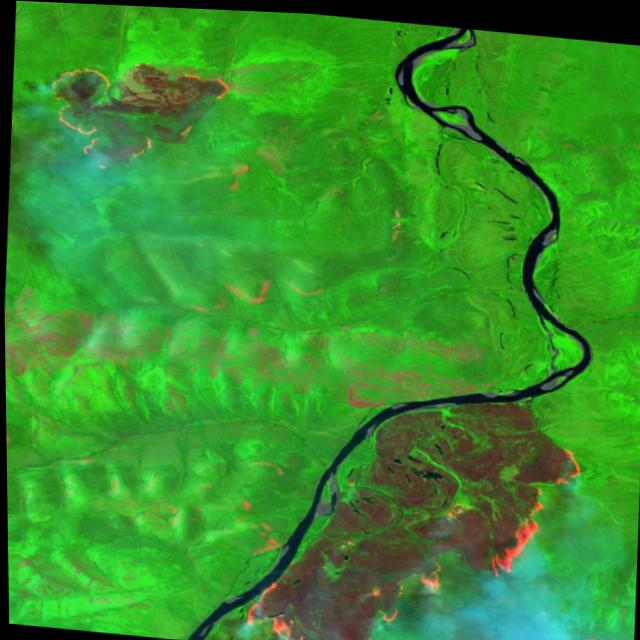fire: (238, 412, 587, 640), (42, 49, 236, 180)
